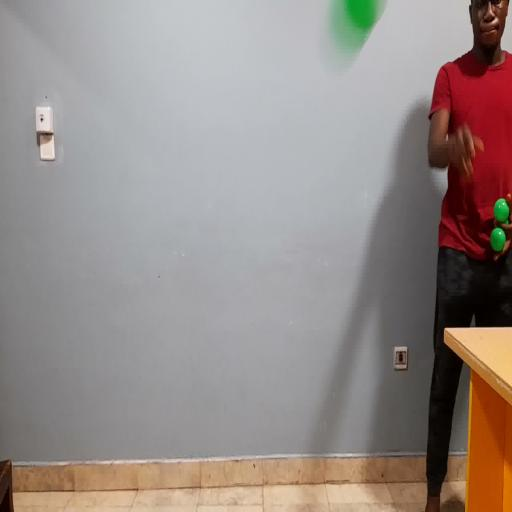plastic-ball: (314, 0, 389, 84)
